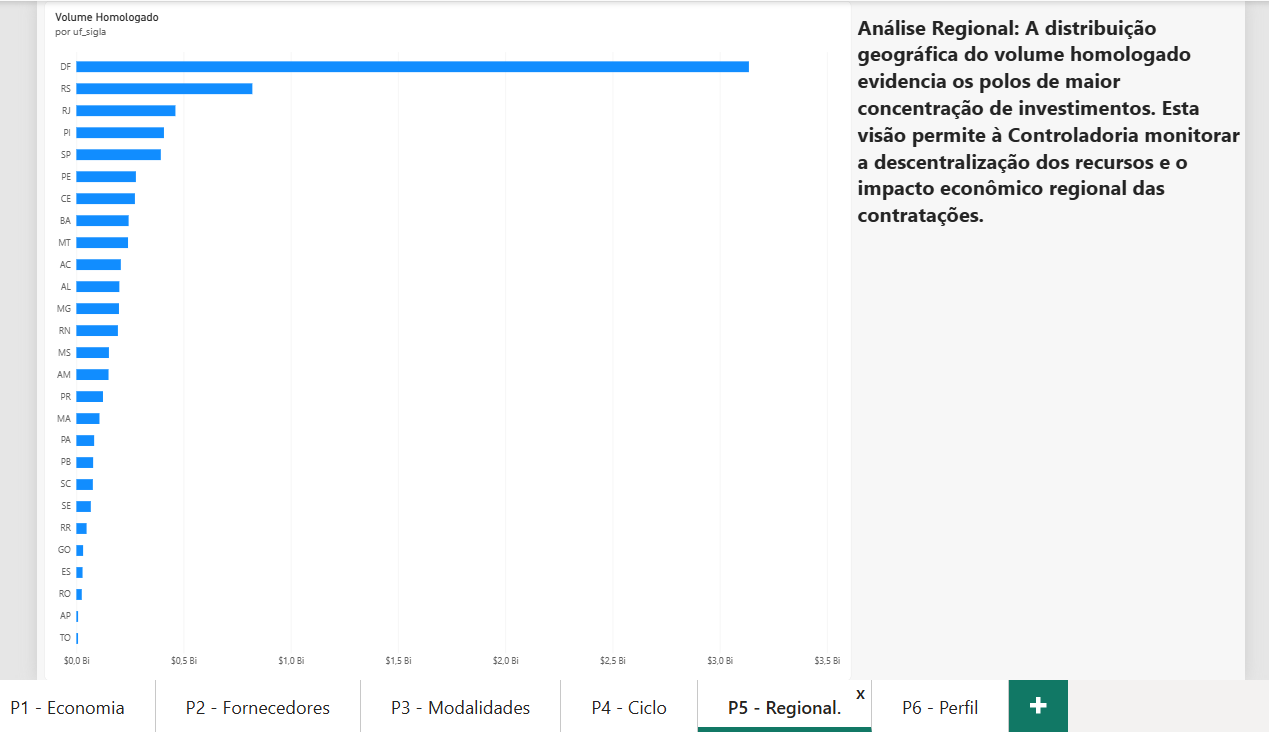

Layout of this report page (visuals, bound fields, positions):
{"tool":"powerbi","page":{"name":"P5 - Regional.","canvas":[1920,1080],"ordinal":4},"visuals":[{"type":"barChart","fields":{"Category":["dim_localidade.uf_sigla"],"Y":["_Medidas.Volume Homologado"]},"box":[11.1,0,1283.1,1081.2],"z":0},{"type":"textbox","box":[1305.2,0,613.9,1081.2],"z":1}]}

Visuals, with their boxes on the page's 1920x1080 design canvas (x1, y1, x2, y2). These are canvas units, not pixel positions in the 1269x732 screenshot, which may show the page scaled, cropped or inside an application window:
barChart - dim_localidade.uf_sigla x _Medidas.Volume Homologado: (x1=11, y1=0, x2=1294, y2=1081)
textbox: (x1=1305, y1=0, x2=1919, y2=1081)
